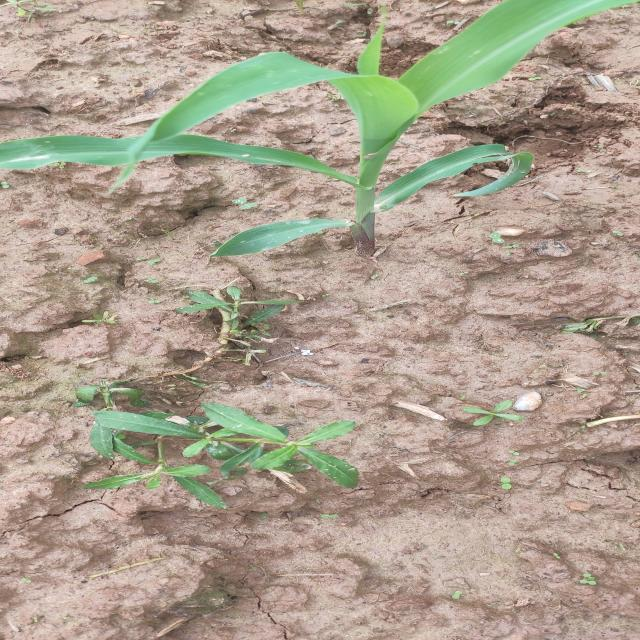maize: (0, 0, 640, 247)
weed: (59, 372, 377, 510), (151, 283, 352, 355)
